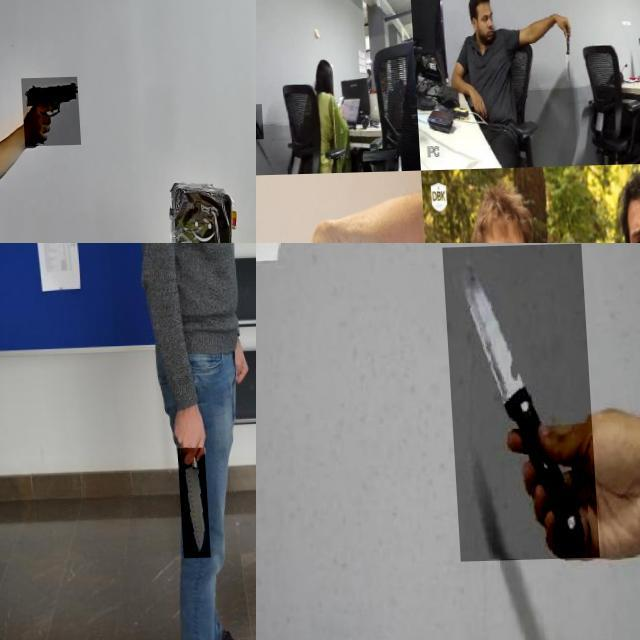-: (441, 247, 595, 564), (172, 449, 204, 560), (559, 39, 573, 88), (256, 105, 265, 140)
gun-knife-thesis - v11 Yolov5 augmented: (19, 79, 78, 149)
